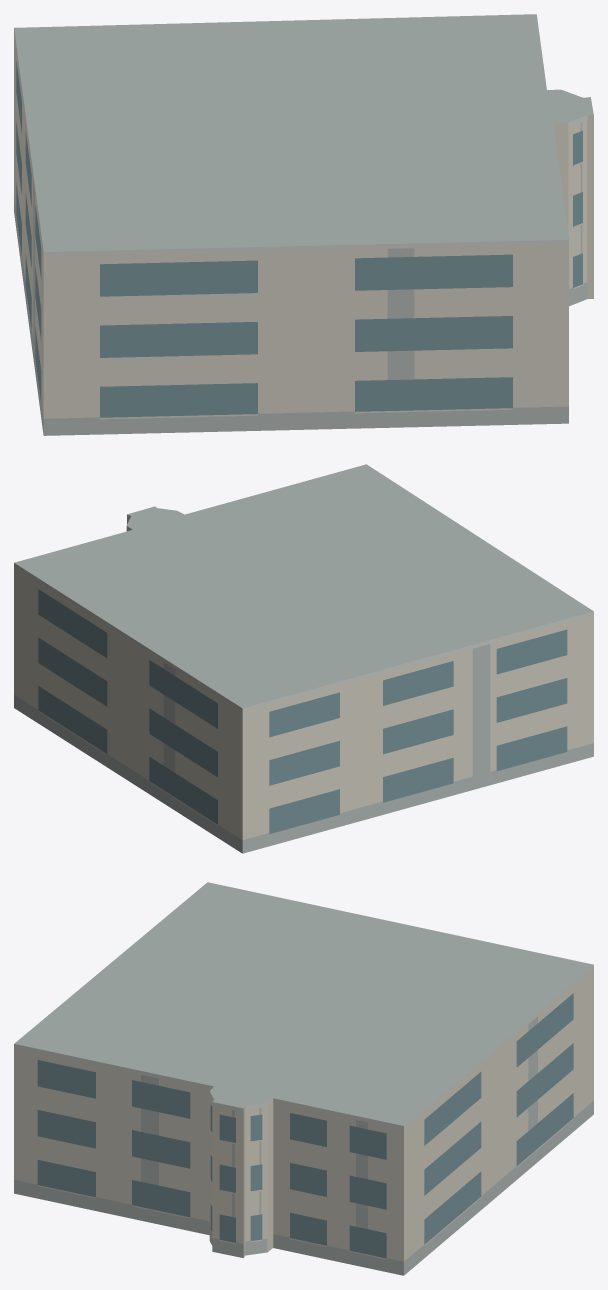
The model's file is survey-upis-33043019.glb.
3 renders of one model, top to bottom at view 1: azimuth 30°, elevation 25°; view 2: azimuth 150°, elevation 25°; view 3: azimuth 270°, elevation 25°, orthographic. The views are drawn at different scales.
Visible parts, largest first — view 1: survey-upis-33043019.tmp; view 2: survey-upis-33043019.tmp; view 3: survey-upis-33043019.tmp.
Part boxes in pixels (x1=…): survey-upis-33043019.tmp: x1=14, y1=14, x2=593, y2=435; survey-upis-33043019.tmp: x1=14, y1=464, x2=593, y2=853; survey-upis-33043019.tmp: x1=14, y1=882, x2=593, y2=1275.
Size of the model in its own units: 31.97 by 9.15 by 32.12.
